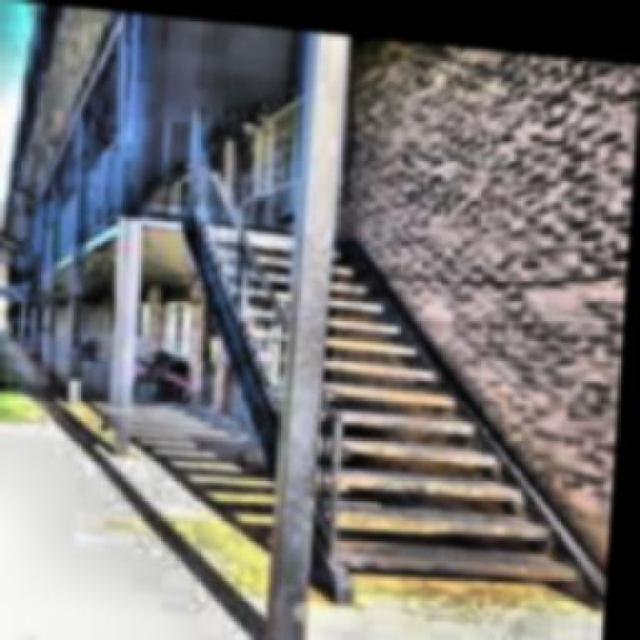stair: (177, 217, 612, 574)
